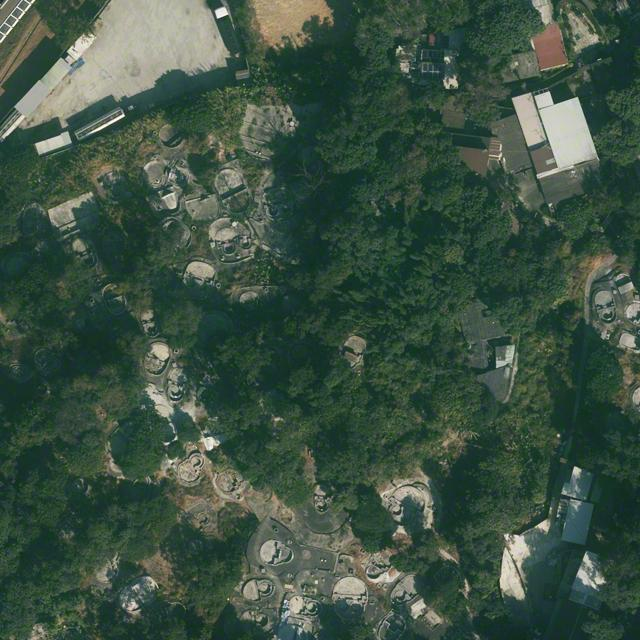panel: (422, 63, 443, 80), (422, 51, 443, 63)
